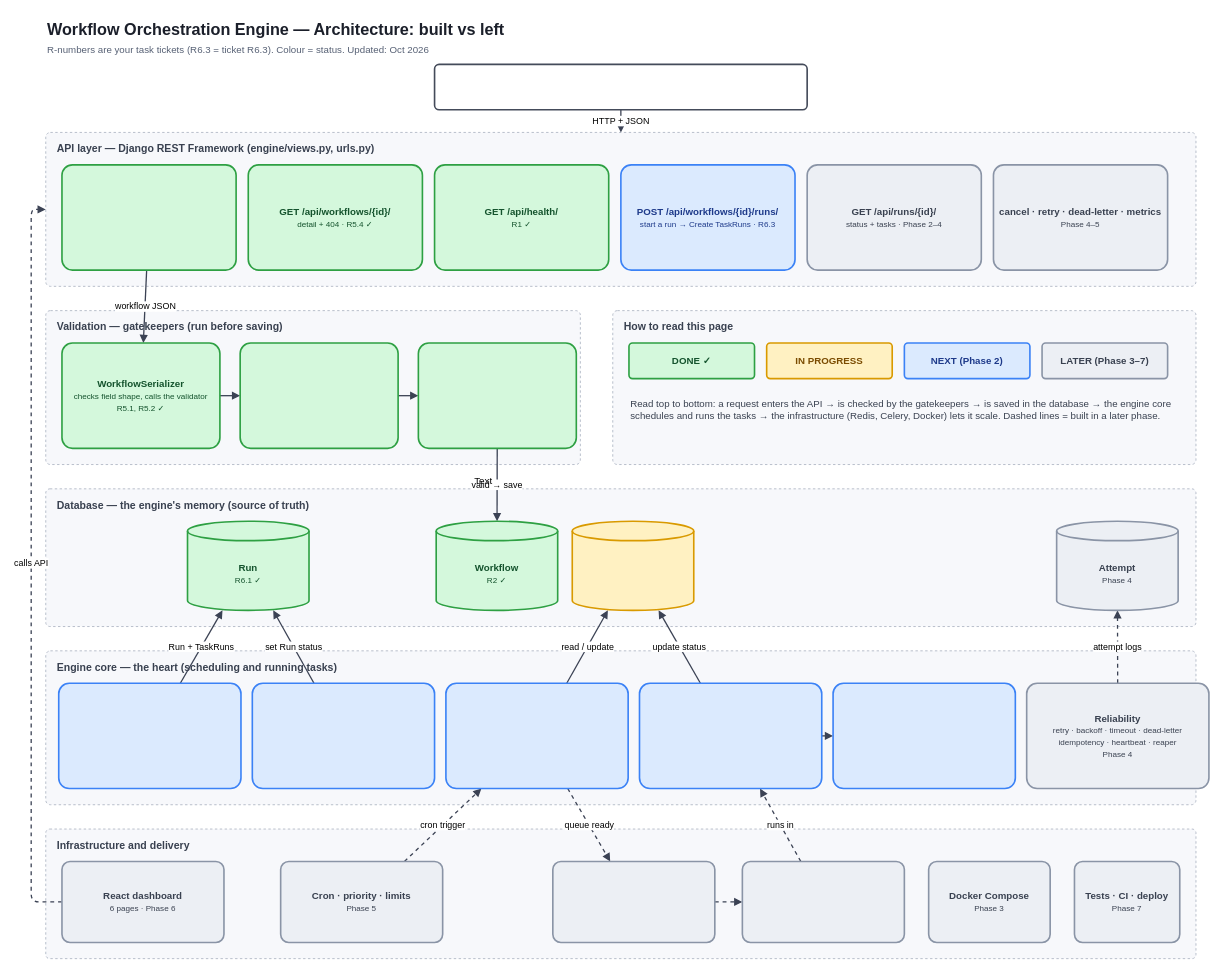
Image size: 1223x973. Some labels were removed from this diagram. Here are the shapes that lost their labels. From the top down, the centre of each, then its label:
At point (620, 86): "Clients Postman · browsable API · service website · React dashboard (Phase 6)".
At point (149, 217): "POST · GET /api/workflows/ create + list · R5.3 ✓".
At point (319, 395): "validate_definition tasks list, name + fn, unique names, dependencies R3 ✓".
At point (497, 395): "get_execution_order Kahn's algorithm: order or cycle error R4 ✓".
At point (632, 565): "TaskRun R6.2 ← you are here".
At point (149, 735): "Create TaskRuns when a Run starts, one TaskRun per task R6.3".
At point (343, 735): "Run final status all SUCCESS → Run SUCCESS any DEAD → Run FAILED R6.8".
At point (537, 735): "Scheduler which tasks are ready? (Kahn's idea, on database status) R6.4, R6.7".
At point (730, 735): "Worker run one task, update its status R6.6 (Celery in Phase 3)".
At point (924, 735): "Function registry fn name → Python function R6.5".
At point (633, 901): "Redis queue ready task ids · Phase 3".
At point (823, 901): "Celery workers parallel execution · Phase 3".
